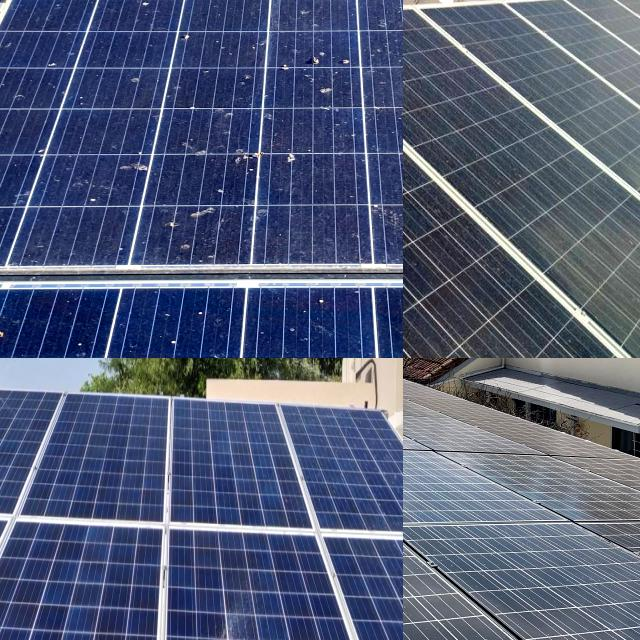crack: (34, 382, 189, 590), (158, 530, 398, 640), (0, 522, 176, 640), (0, 380, 73, 510)
dust: (121, 0, 340, 199), (512, 147, 640, 350), (3, 0, 92, 261), (403, 39, 507, 201), (403, 22, 466, 200), (198, 293, 369, 358), (0, 300, 190, 358), (118, 216, 342, 263), (403, 255, 503, 358), (539, 542, 640, 640), (95, 0, 340, 39)
